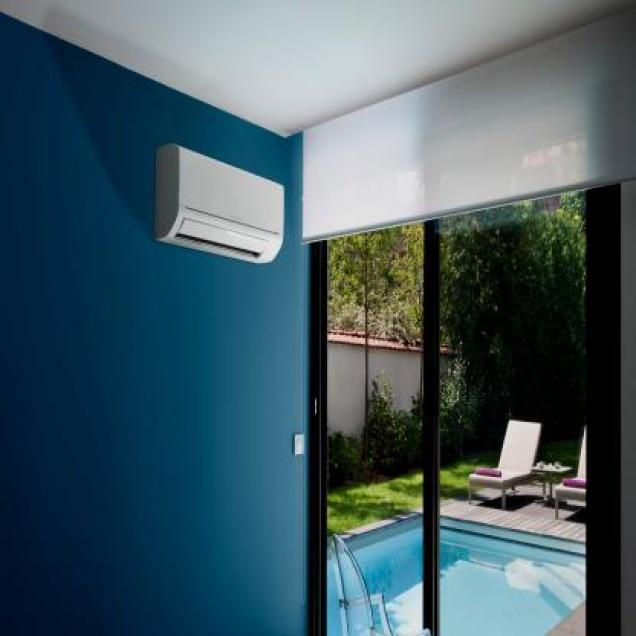AC: (152, 142, 285, 265)
